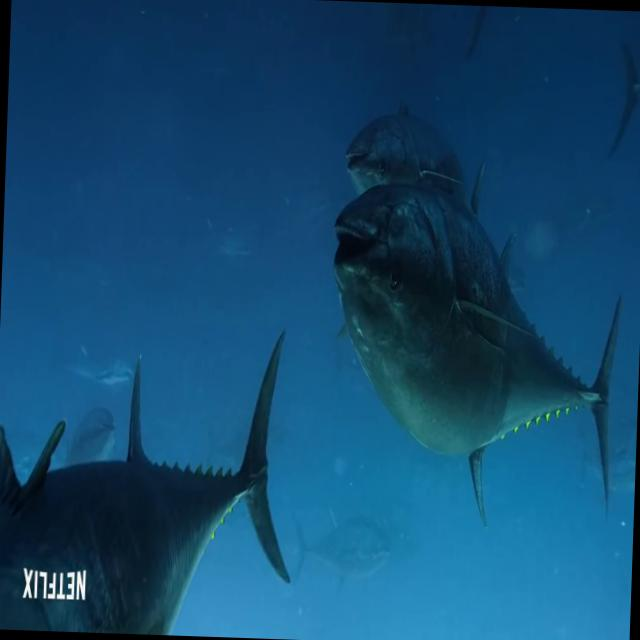fish: (319, 186, 629, 539), (0, 313, 297, 639), (338, 100, 489, 242)
